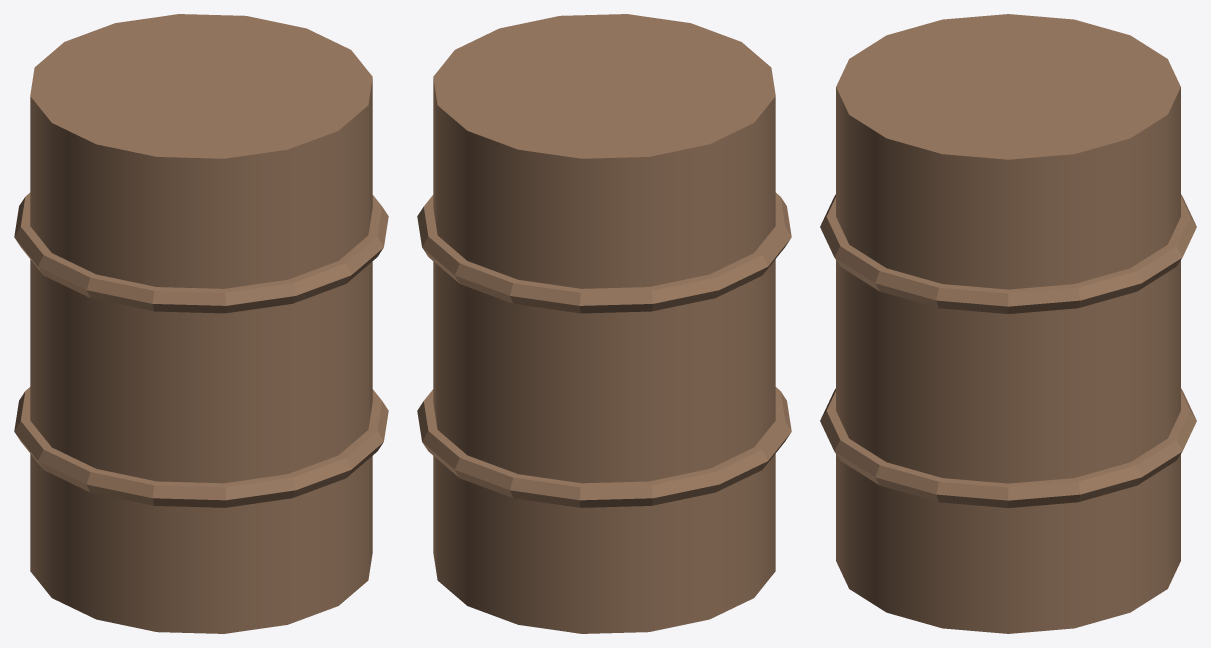
The model's file is barrel.glb.
The picture shows the model from 3 angles, left to right: view 1: azimuth 30°, elevation 25°; view 2: azimuth 150°, elevation 25°; view 3: azimuth 270°, elevation 25°; orthographic projection.
Visible parts, largest first — view 1: Barrel, Ring0, Ring1; view 2: Barrel, Ring0, Ring1; view 3: Barrel, Ring0, Ring1.
Part boxes in pixels (x1=…): Barrel: x1=30, y1=14, x2=372, y2=633; Ring0: x1=14, y1=192, x2=388, y2=313; Ring1: x1=14, y1=387, x2=388, y2=507; Barrel: x1=433, y1=14, x2=775, y2=633; Ring0: x1=417, y1=192, x2=791, y2=313; Ring1: x1=417, y1=387, x2=791, y2=507; Barrel: x1=836, y1=14, x2=1180, y2=633; Ring0: x1=820, y1=194, x2=1196, y2=313; Ring1: x1=820, y1=388, x2=1196, y2=507.
Bounding box in the file's own units: 0.634 × 0.88 × 0.634.
